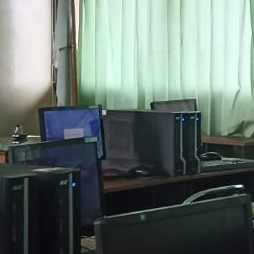monitor: (38, 105, 106, 160)
